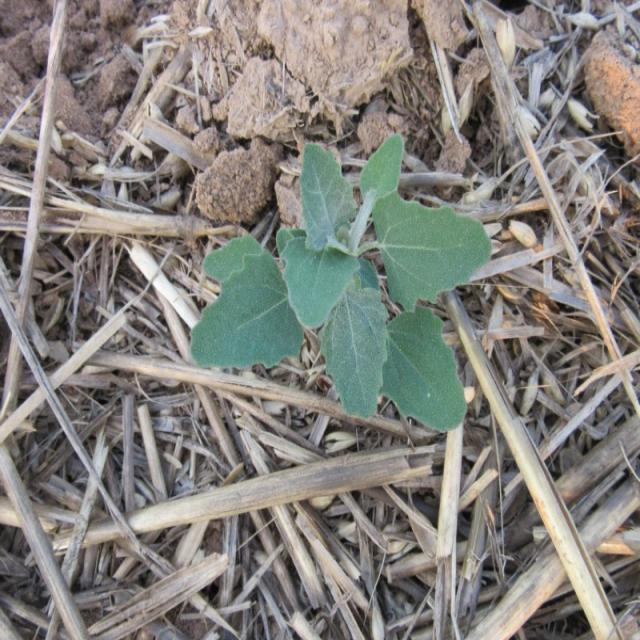ca: (193, 138, 488, 434)
